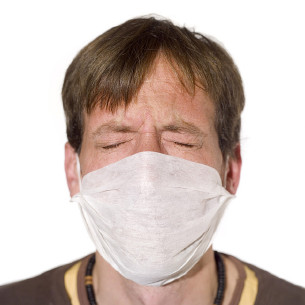face_mask: (81, 69, 222, 270)
